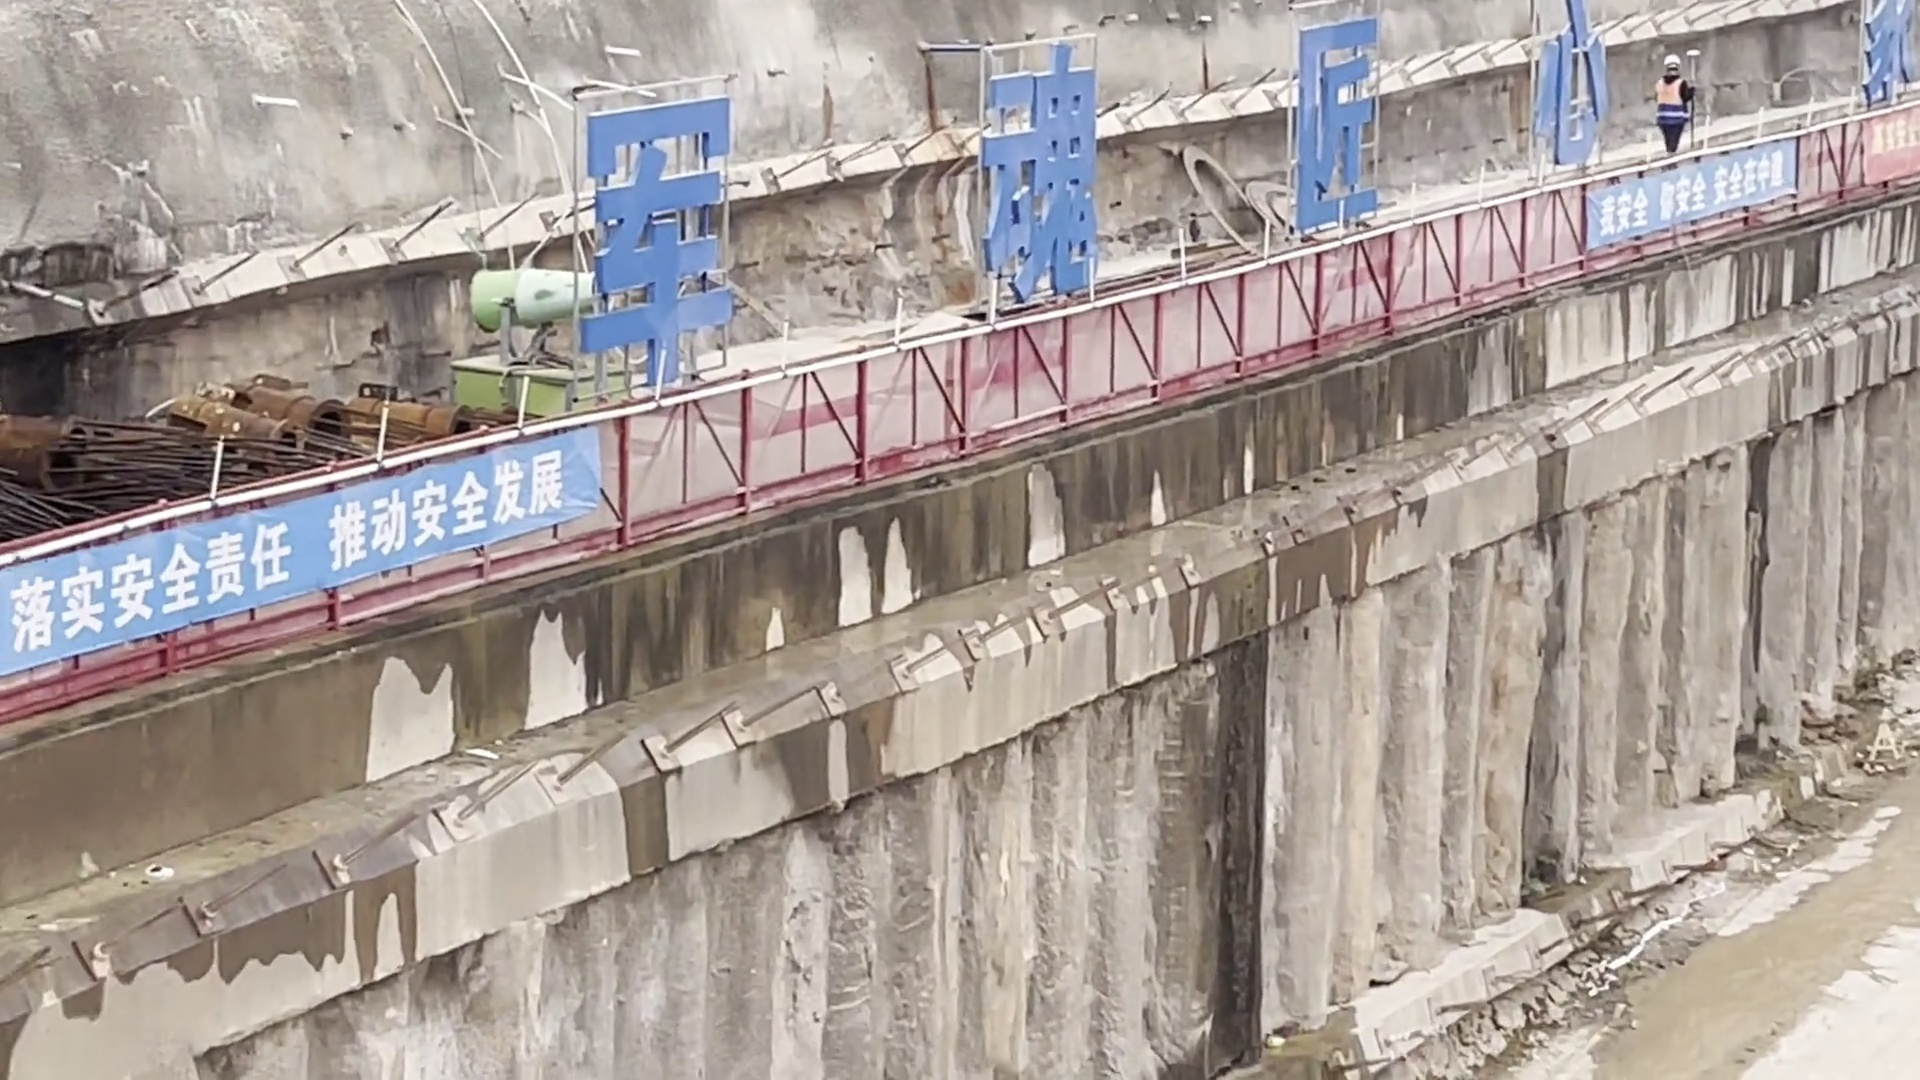fence: (4, 108, 1915, 723)
helmet: (1665, 54, 1681, 69)
person: (1658, 58, 1691, 152)
slogan: (572, 1, 1606, 410), (6, 414, 567, 666), (1596, 145, 1792, 254), (1846, 3, 1920, 114)
vest: (1657, 77, 1683, 107)
